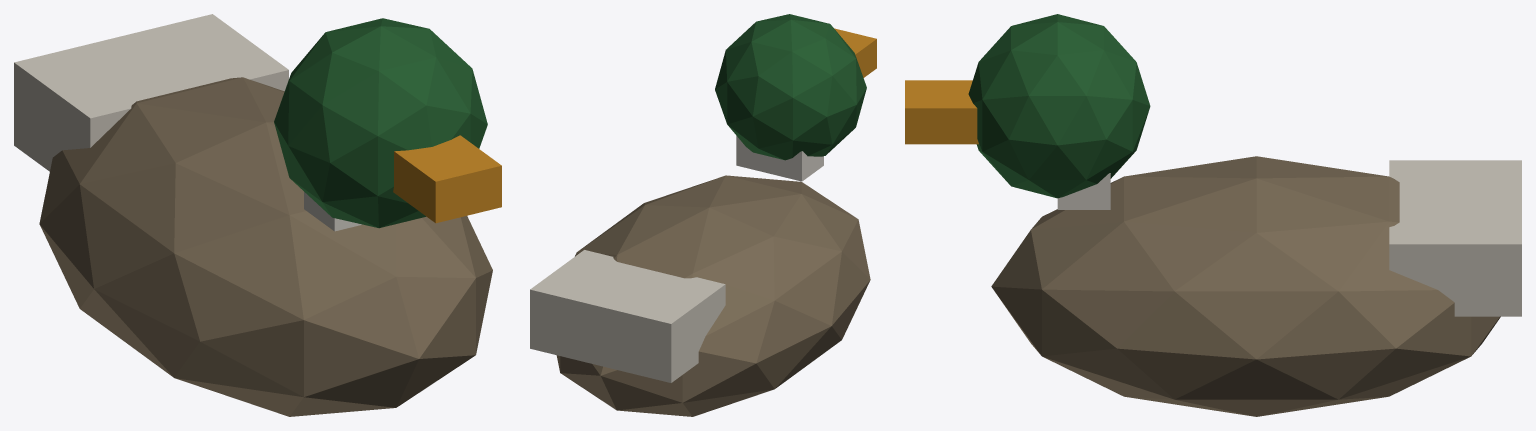
The model's file is duck.glb.
The picture shows the model from 3 angles, left to right: view 1: azimuth 30°, elevation 25°; view 2: azimuth 150°, elevation 25°; view 3: azimuth 270°, elevation 25°; orthographic projection. The views are drawn at different scales.
Visible parts, largest first — view 1: duck; view 2: duck; view 3: duck.
Part boxes in pixels (x1,y1,x2,y2): duck: (14,14,501,416); duck: (530,14,876,416); duck: (905,14,1521,416).
Size of the model in its own units: 0.0322 by 0.0384 by 0.0577.
